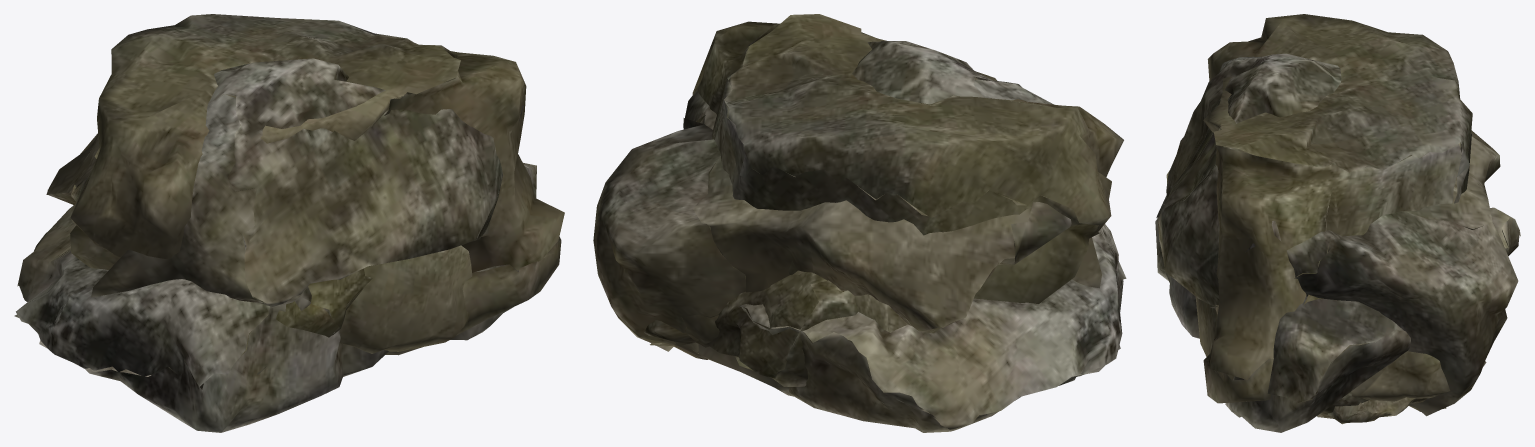
File: rocks_small.glb
The picture shows the model from 3 angles, left to right: view 1: azimuth 30°, elevation 25°; view 2: azimuth 150°, elevation 25°; view 3: azimuth 270°, elevation 25°; orthographic projection. The views are drawn at different scales.
Visible parts, largest first — view 1: rock_small_11, rock_small_13, rock_small_10, rock_small_7, rock_small_12; view 2: rock_small_13, rock_small_11, rock_small_10, rock_small_12, rock_small_7; view 3: rock_small_13, rock_small_11, rock_small_10, rock_small_7, rock_small_9, rock_small_12.
Boxes of the visible parts, x1,y1,x2,y2 form: rock_small_11: (46, 58, 523, 307); rock_small_13: (70, 14, 564, 355); rock_small_10: (14, 163, 536, 432); rock_small_7: (339, 245, 472, 353); rock_small_12: (184, 268, 372, 374); rock_small_13: (692, 14, 1123, 303); rock_small_11: (593, 41, 1101, 359); rock_small_10: (708, 191, 1126, 432); rock_small_12: (644, 272, 857, 386); rock_small_7: (674, 226, 911, 396); rock_small_13: (1203, 14, 1472, 403); rock_small_11: (1157, 53, 1518, 416); rock_small_10: (1155, 195, 1520, 432); rock_small_7: (1195, 297, 1450, 401); rock_small_9: (1328, 397, 1415, 424); rock_small_12: (1311, 361, 1486, 418).
Size of the model in its own units: 2.2 by 1.31 by 1.55.
Materials: 1 (1 with a texture image).
